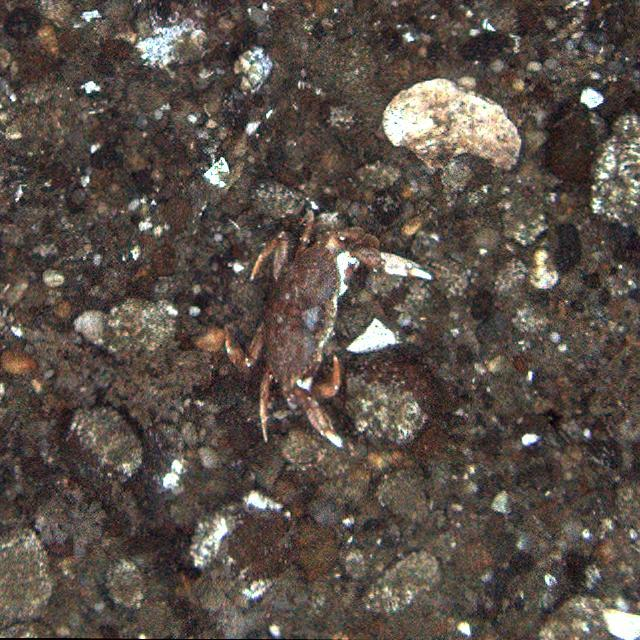crab: (224, 209, 425, 445)
